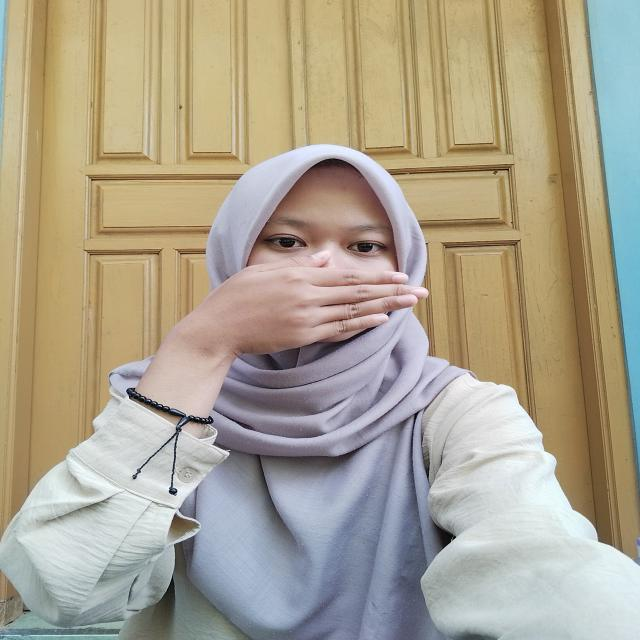buruk: (175, 250, 432, 354)
